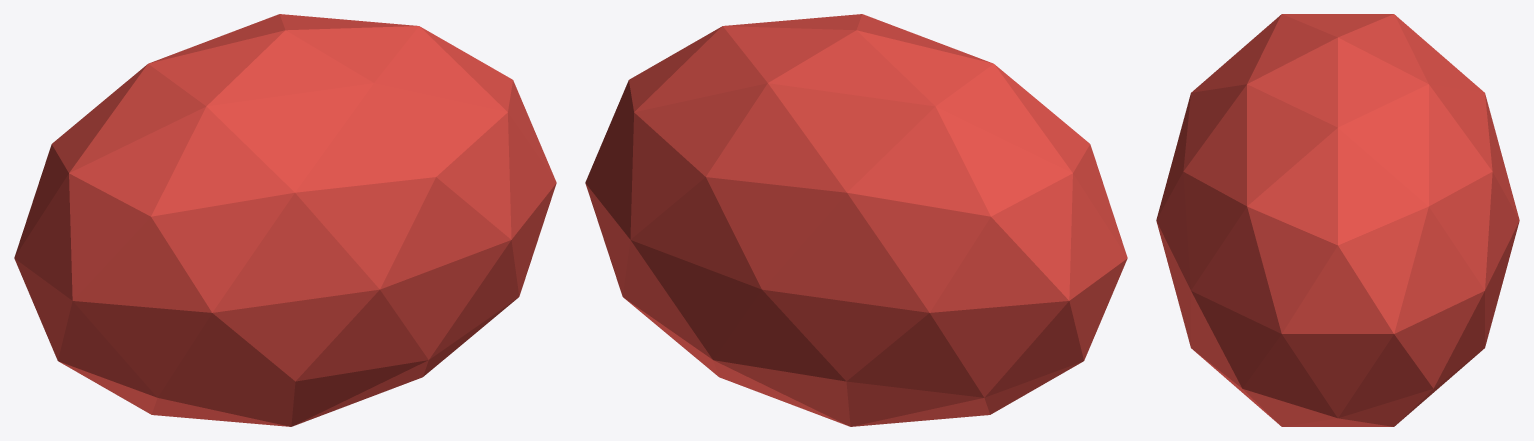
File: RockClimbing_Hold.fbx
3 renders of one model, left to right at view 1: azimuth 30°, elevation 25°; view 2: azimuth 150°, elevation 25°; view 3: azimuth 270°, elevation 25°, orthographic. The views are drawn at different scales.
Visible parts, largest first — view 1: Hold; view 2: Hold; view 3: Hold.
Part boxes in pixels (box(x1,y1,x2,y2)): Hold: box(14, 14, 556, 426); Hold: box(585, 14, 1127, 426); Hold: box(1156, 14, 1519, 426).
Size of the model in its own units: 0.2663 by 0.2 by 0.18.
